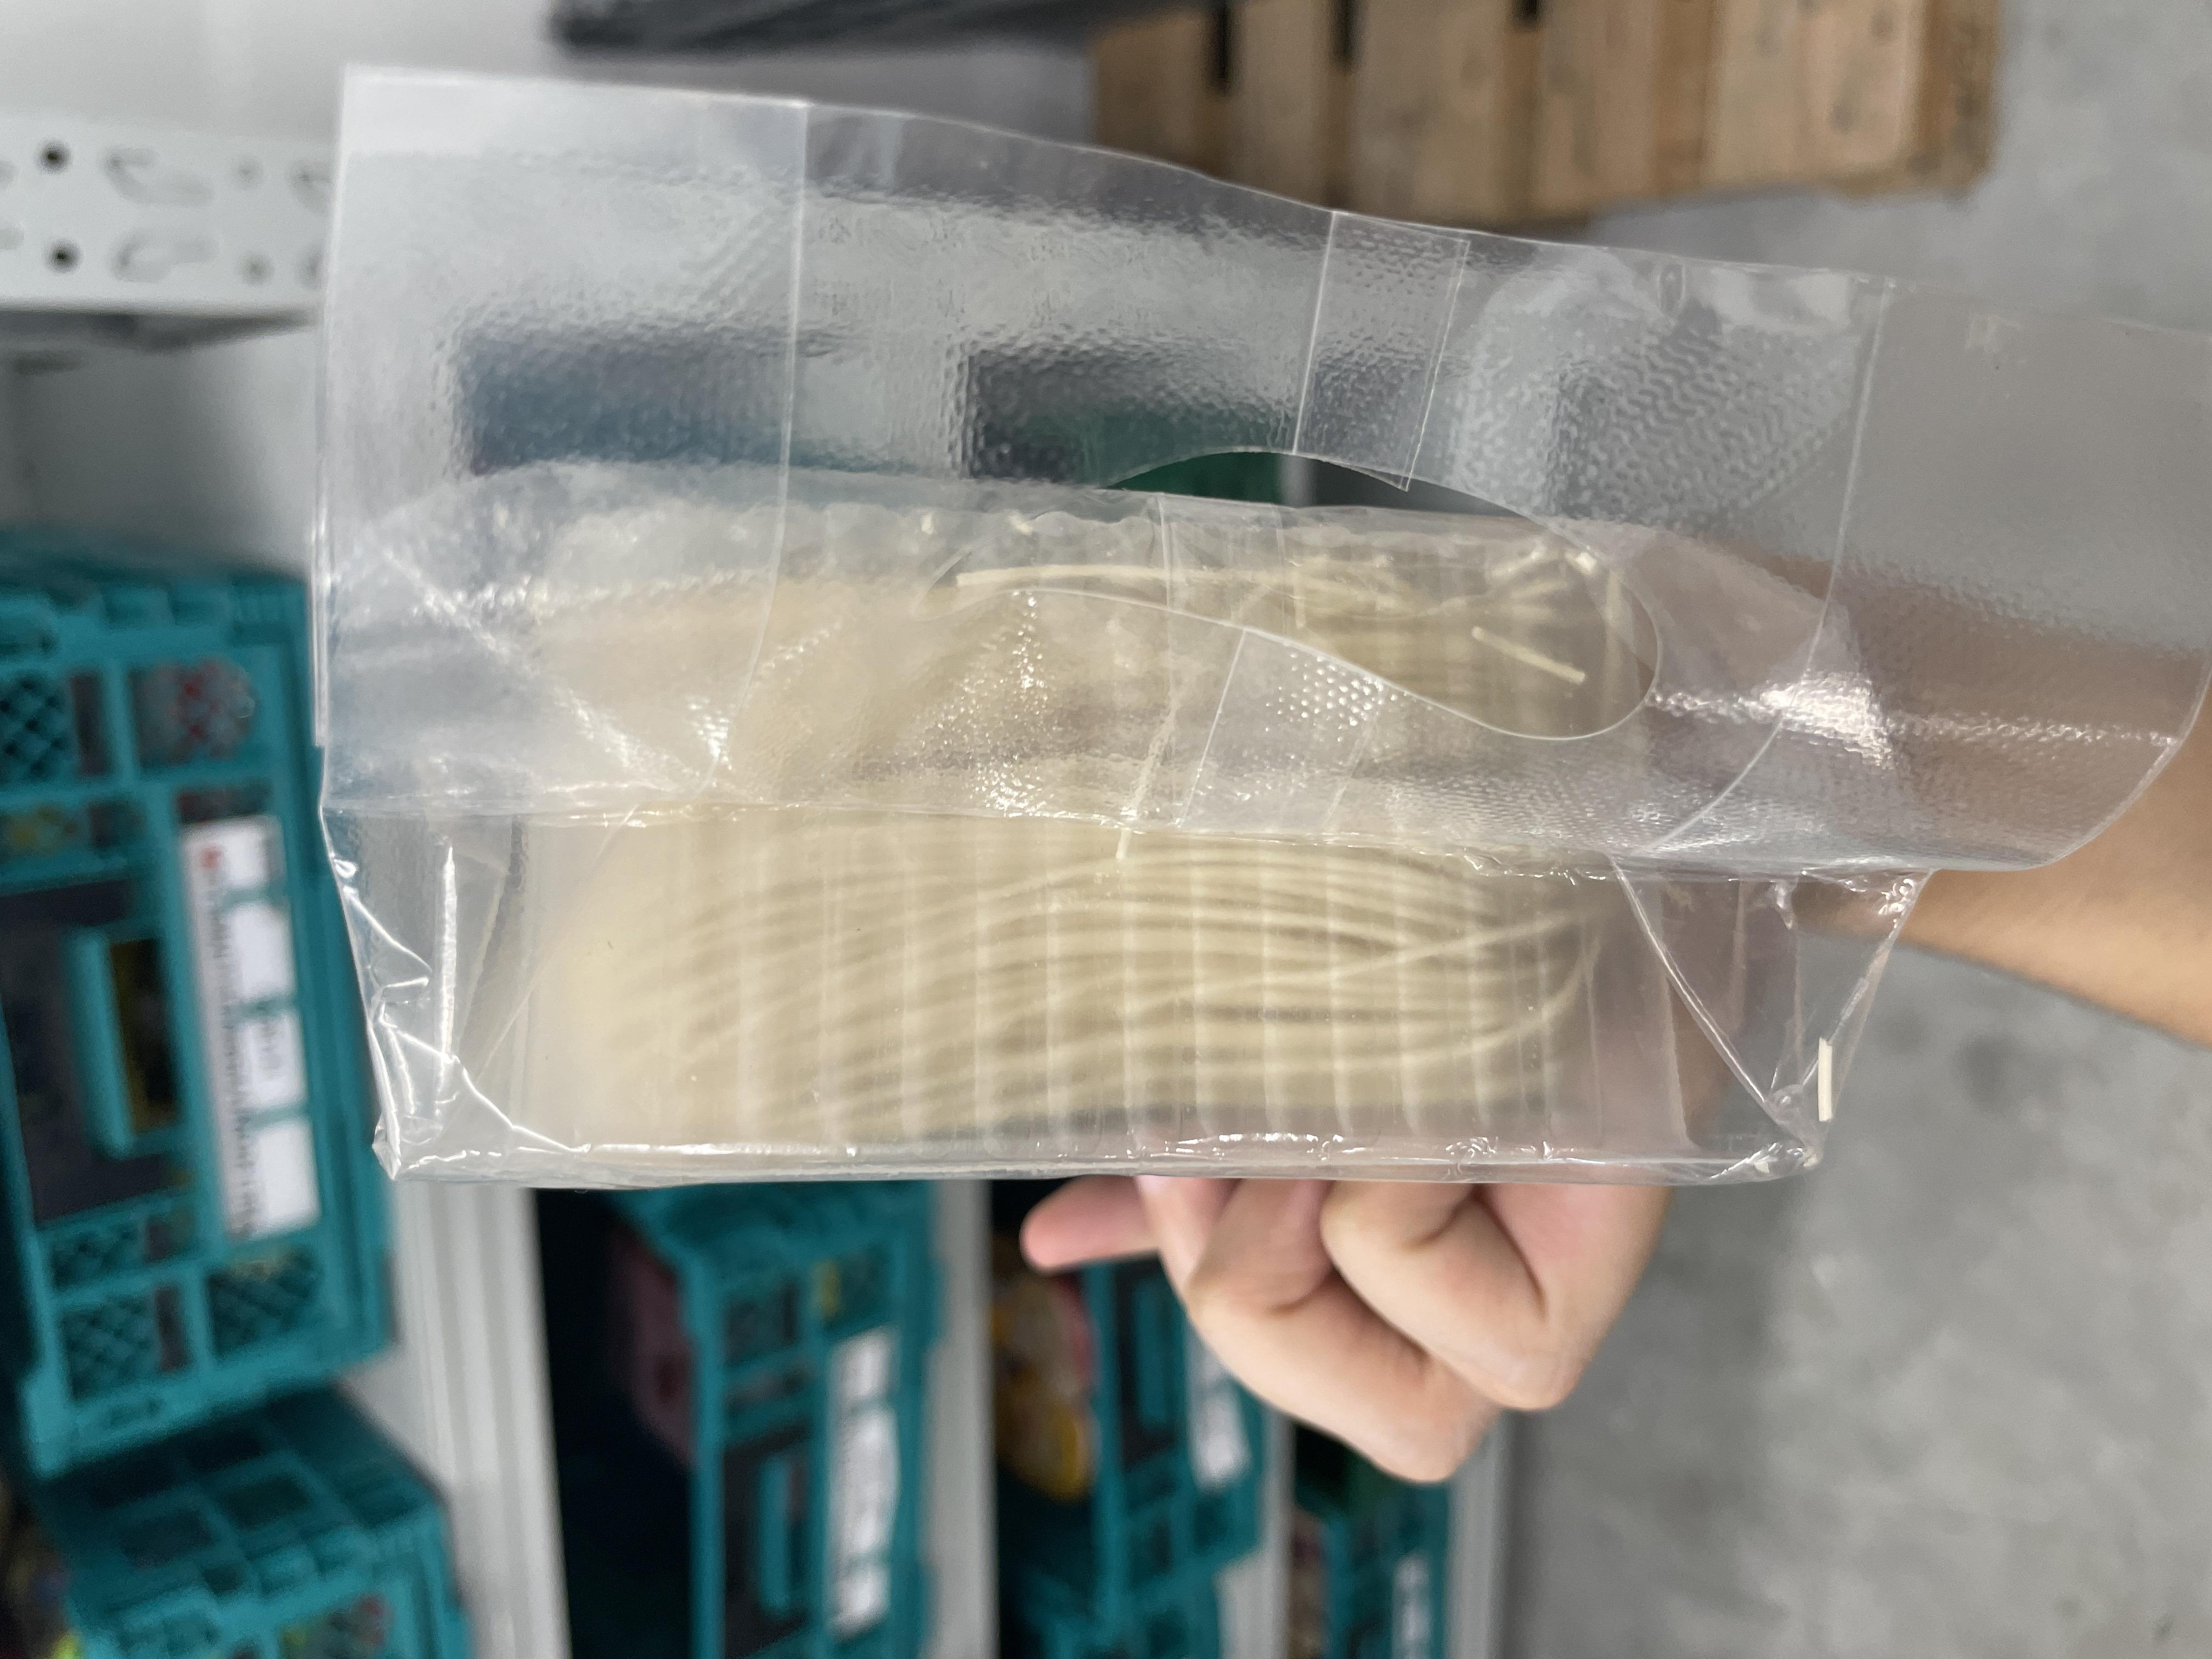object_name: (472, 416, 1141, 1659)
